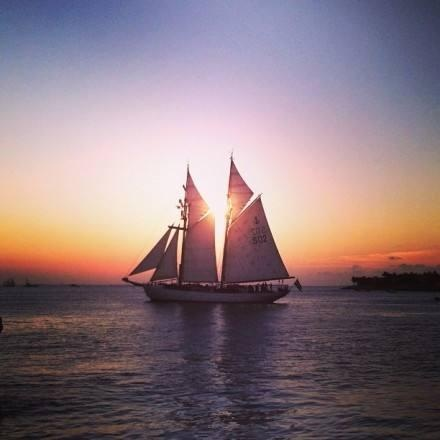fanchuan: (121, 148, 305, 308)
